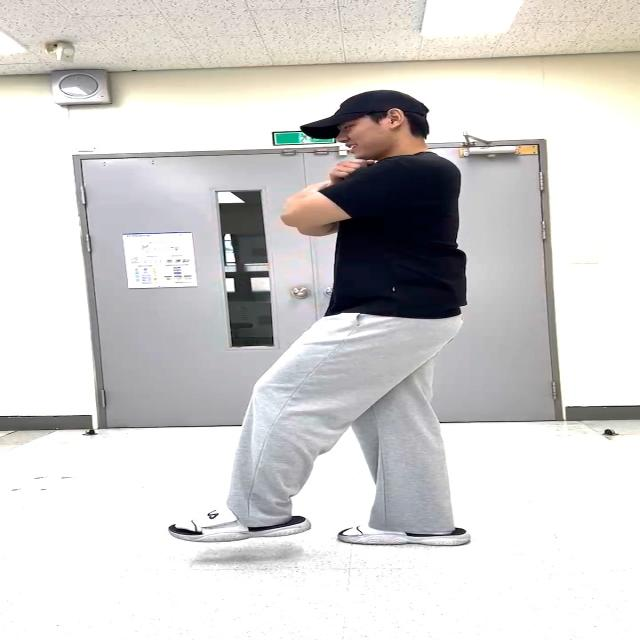leg: (156, 319, 380, 554)
